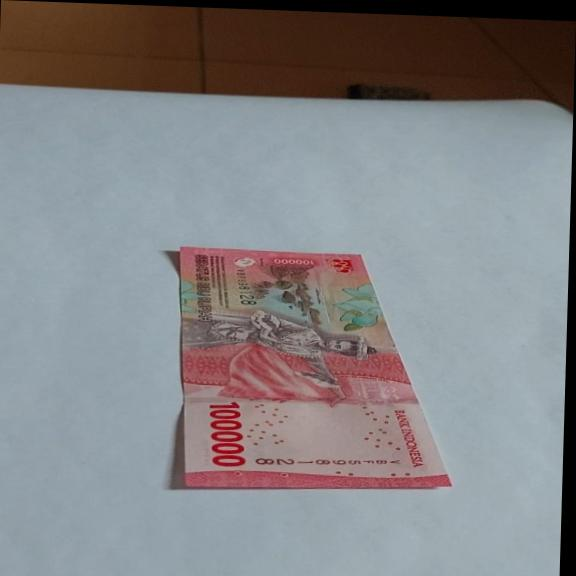Kertas: (205, 400, 249, 468)
